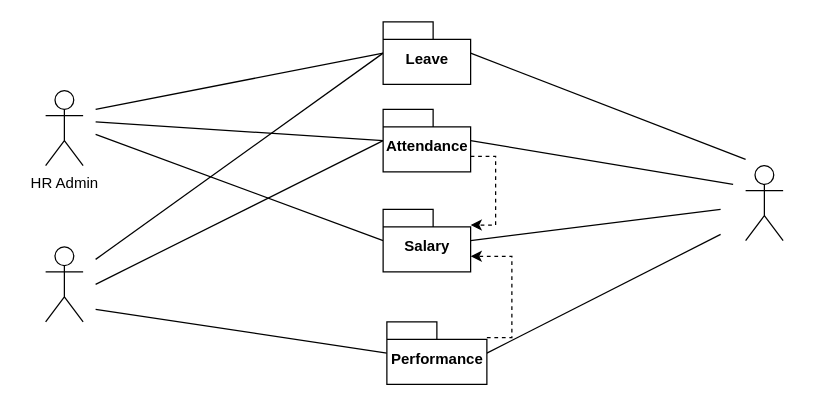
This 819x406 diagram has some shape labels left out. The shapes that lost their labels are listed below. From the top down, each one's box as (x1, y1, x2, y2) in pixels, then its label:
(744, 164, 783, 241): Employee
(44, 246, 83, 322): HR Manager
